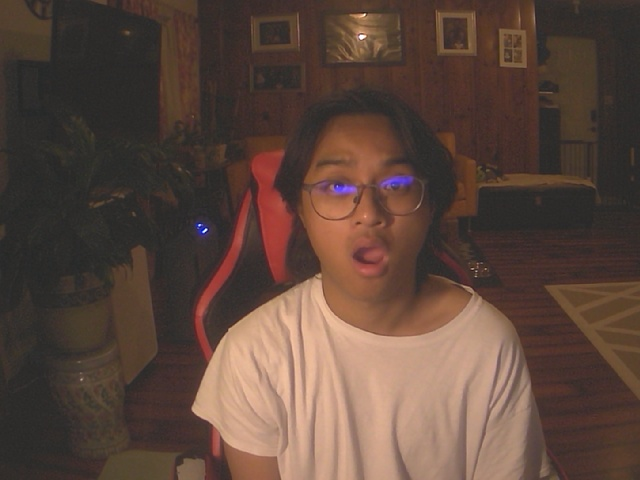fear: (273, 86, 459, 301)
